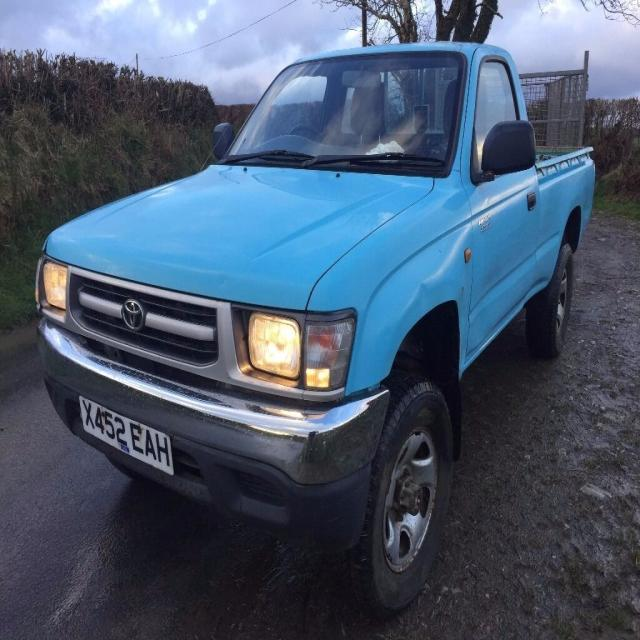light_vehicle: (28, 34, 597, 610)
